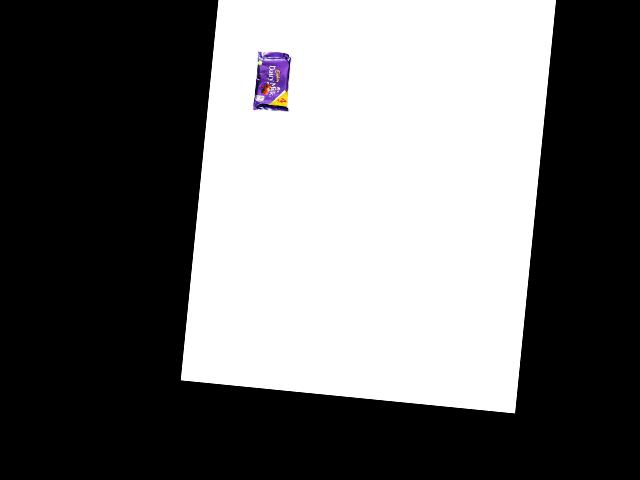chocolate: (247, 47, 293, 120)
